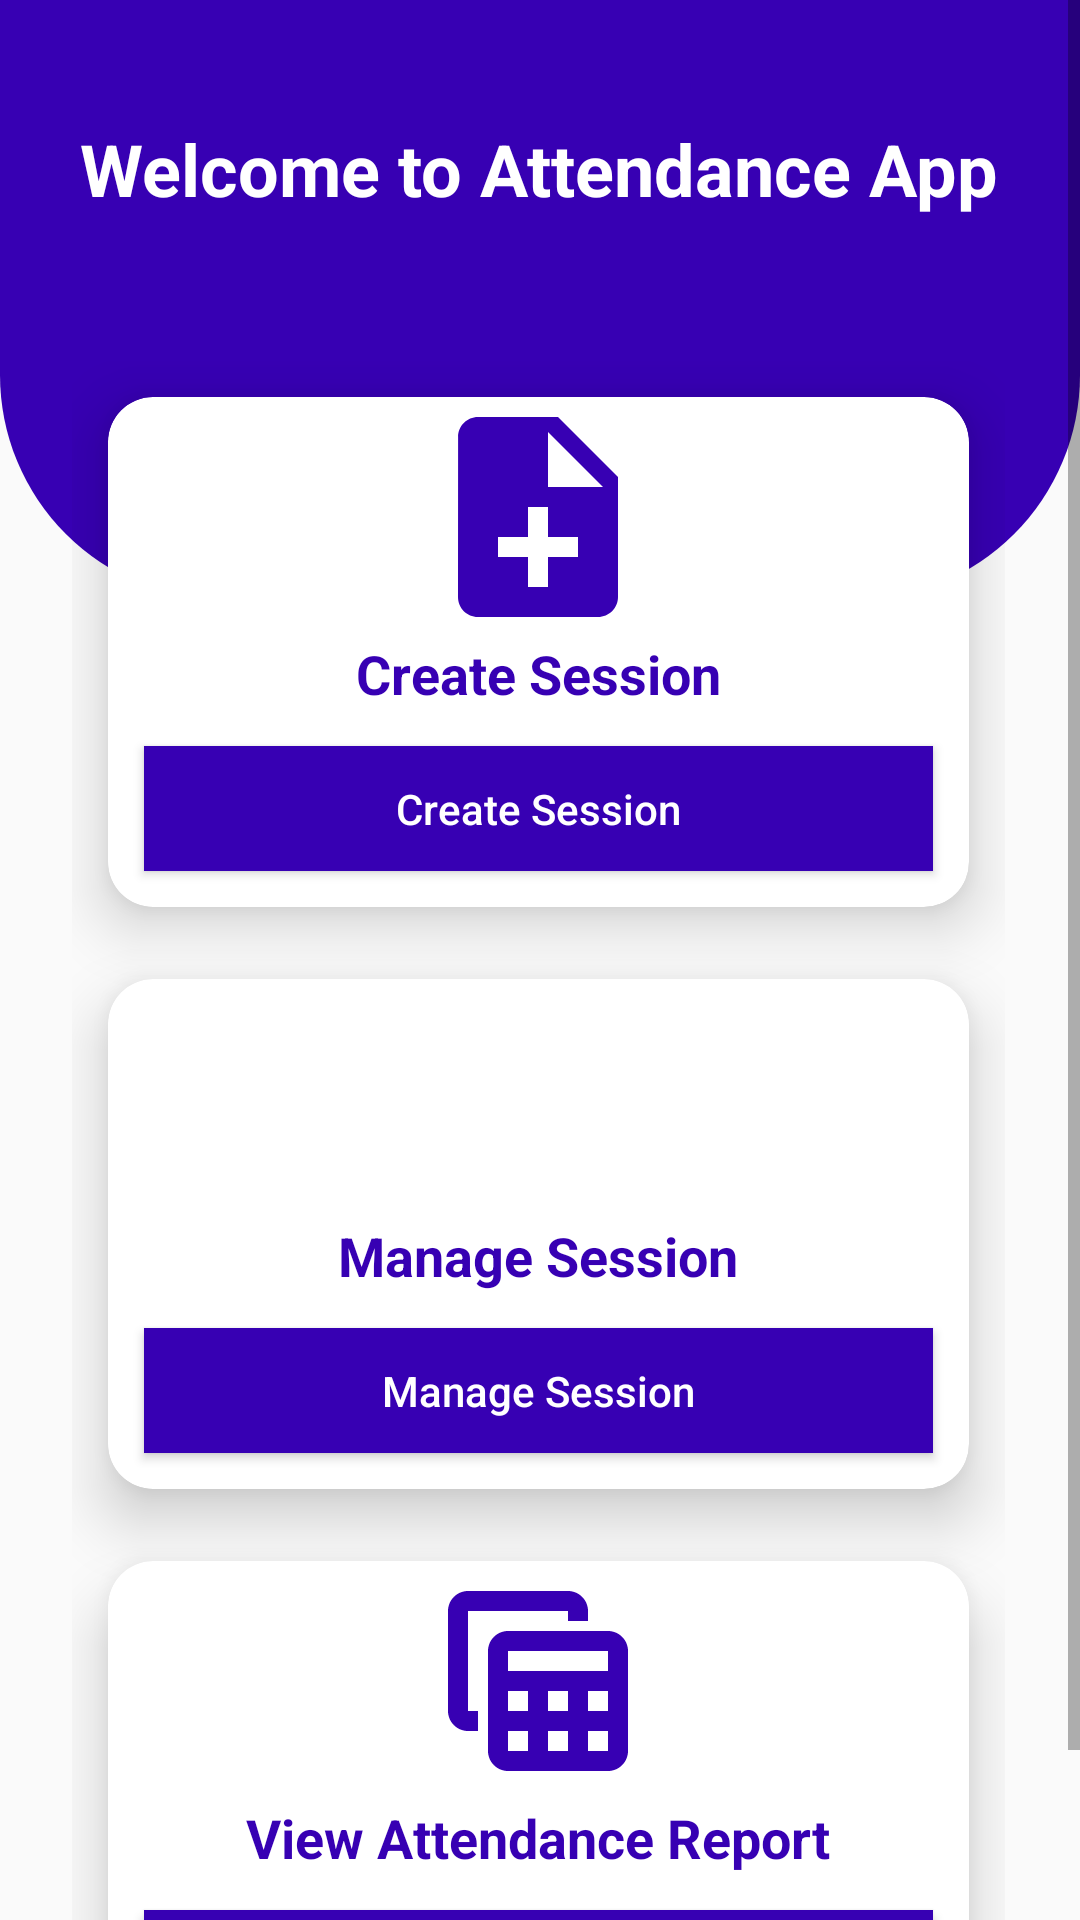

Named icons in this screenshot (1080x1920) and their bounding boxes, (x1, y1, x2, y2):
note add: (458, 417, 618, 617)
